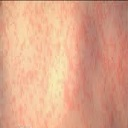Measles: (6, 17, 91, 118)
